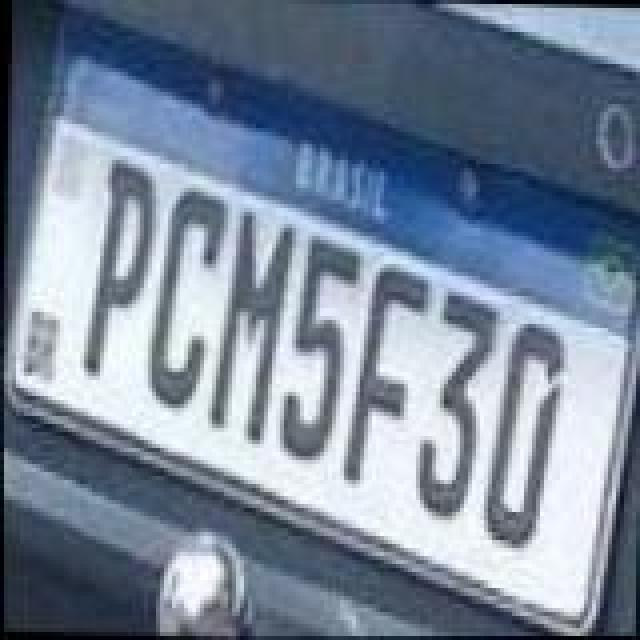3: (414, 282, 498, 522)
5: (276, 228, 360, 464)
C: (144, 184, 228, 412)
D: (480, 318, 564, 554)
F: (340, 262, 428, 490)
M: (206, 204, 294, 444)
P: (78, 150, 154, 378)
